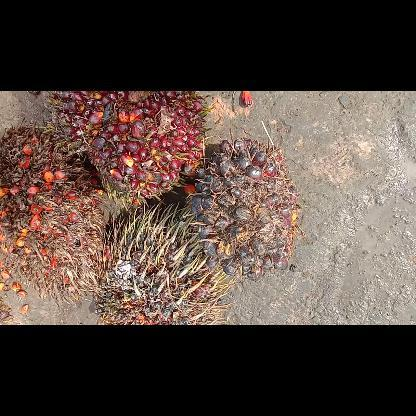TBS abnormal: (92, 202, 228, 324)
TBS masak: (51, 90, 206, 198)
TBS mentah: (190, 140, 298, 280)
Terlalu masak: (0, 121, 103, 304)
